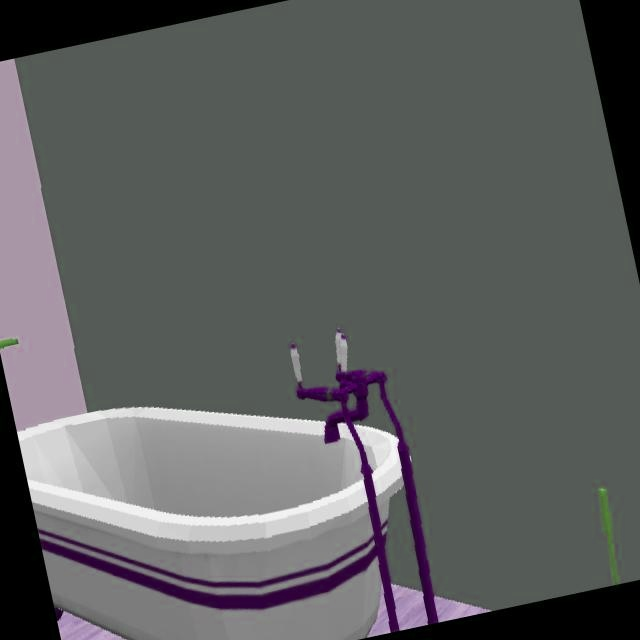bathtube: (17, 407, 408, 640)
